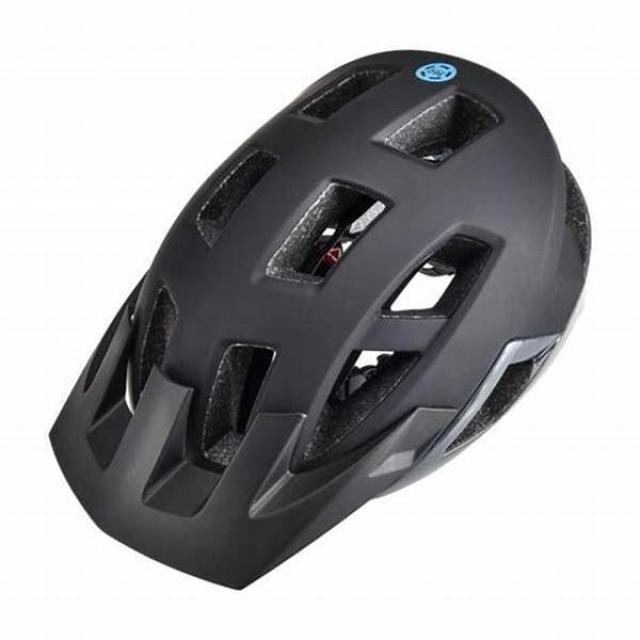illegal_helmet: (35, 41, 601, 596)
